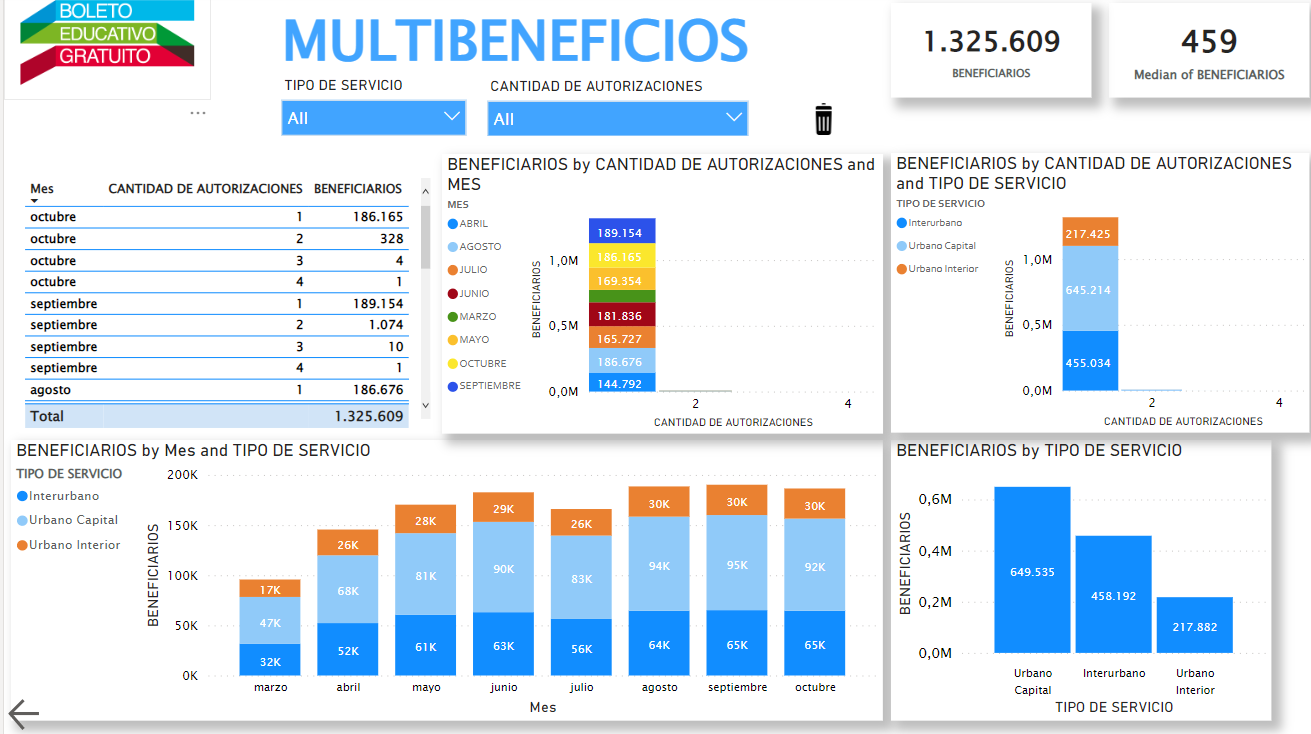

The dashboard page shown, as its layout file describes it:
{"tool":"powerbi","page":{"name":"MULTIBENEFICIOS","canvas":[1280,720],"ordinal":8},"visuals":[{"type":"image","box":[0,0,201,102],"z":0},{"type":"textbox","box":[210.2,0,574.6,92],"z":1000},{"type":"lineStackedColumnComboChart","fields":{"Category":["tCALENDARIO.FECHA.Variación.Jerarquía de fechas.Mes"],"Series":["Multibeneficio.TIPO DE SERVICIO"],"Y":["Sum(Multibeneficio.BENEFICIARIOS)"]},"box":[7,432.7,847.9,273.3],"z":2000},{"type":"columnChart","fields":{"Y":["Sum(Multibeneficio.BENEFICIARIOS)"],"Category":["Multibeneficio.TIPO DE SERVICIO"]},"box":[862.8,432.7,369.6,273.3],"z":3000},{"type":"card","fields":{"Values":["Median(Multibeneficio.BENEFICIARIOS)"]},"box":[1074.5,8.2,195.5,91.8],"z":4000},{"type":"tableEx","fields":{"Values":["tCALENDARIO.FECHA.Variación.Jerarquía de fechas.Mes","Multibeneficio.CANTIDAD DE AUTORIZACIONES","Sum(Multibeneficio.BENEFICIARIOS)"]},"box":[14.9,173.4,404.7,253.1],"z":5000},{"type":"image","box":[754.3,100,84.3,41.4],"z":6000},{"type":"card","fields":{"Values":["Sum(Multibeneficio.BENEFICIARIOS)"]},"box":[863,8,195,92],"z":7000},{"type":"columnChart","fields":{"Y":["Sum(Multibeneficio.BENEFICIARIOS)"],"Category":["Multibeneficio.CANTIDAD DE AUTORIZACIONES"],"Series":["Multibeneficio.MES"]},"box":[425.7,155,429.2,272.4],"z":8000},{"type":"columnChart","fields":{"Y":["Sum(Multibeneficio.BENEFICIARIOS)"],"Category":["Multibeneficio.CANTIDAD DE AUTORIZACIONES"],"Series":["Multibeneficio.TIPO DE SERVICIO"]},"box":[862.8,154.2,407.3,272.4],"z":9000},{"type":"slicer","fields":{"Values":["Multibeneficio.CANTIDAD DE AUTORIZACIONES"]},"box":[459.9,74.5,274.2,62.2],"z":10000},{"type":"actionButton","box":[0,680,100,40],"z":11000},{"type":"slicer","fields":{"Values":["Multibeneficio.TIPO DE SERVICIO"]},"box":[260,74.3,200,71.4],"z":12000},{"type":"textbox","box":[100.2,100.2,299.6,113.8],"z":13000}]}

Visuals, with their boxes in screenshot pixels (x1, y1, x2, y2), scaled from the page's 1280x720 canvas onto the 1311x734 screenshot:
image: <box>0,0,206,104</box>
textbox: <box>215,0,804,94</box>
lineStackedColumnComboChart - tCALENDARIO.FECHA.Variación.Jerarquía de fechas.Mes x Multibeneficio.TIPO DE SERVICIO: <box>7,441,876,720</box>
columnChart - Sum(Multibeneficio.BENEFICIARIOS) x Multibeneficio.TIPO DE SERVICIO: <box>884,441,1262,720</box>
card - Median(Multibeneficio.BENEFICIARIOS): <box>1101,8,1301,102</box>
tableEx - tCALENDARIO.FECHA.Variación.Jerarquía de fechas.Mes x Multibeneficio.CANTIDAD DE AUTORIZACIONES: <box>15,177,430,435</box>
image: <box>773,102,859,144</box>
card - Sum(Multibeneficio.BENEFICIARIOS): <box>884,8,1084,102</box>
columnChart - Sum(Multibeneficio.BENEFICIARIOS) x Multibeneficio.CANTIDAD DE AUTORIZACIONES: <box>436,158,876,436</box>
columnChart - Sum(Multibeneficio.BENEFICIARIOS) x Multibeneficio.CANTIDAD DE AUTORIZACIONES: <box>884,157,1301,435</box>
slicer - Multibeneficio.CANTIDAD DE AUTORIZACIONES: <box>471,76,752,139</box>
actionButton: <box>0,693,102,733</box>
slicer - Multibeneficio.TIPO DE SERVICIO: <box>266,76,471,149</box>
textbox: <box>103,102,409,218</box>
